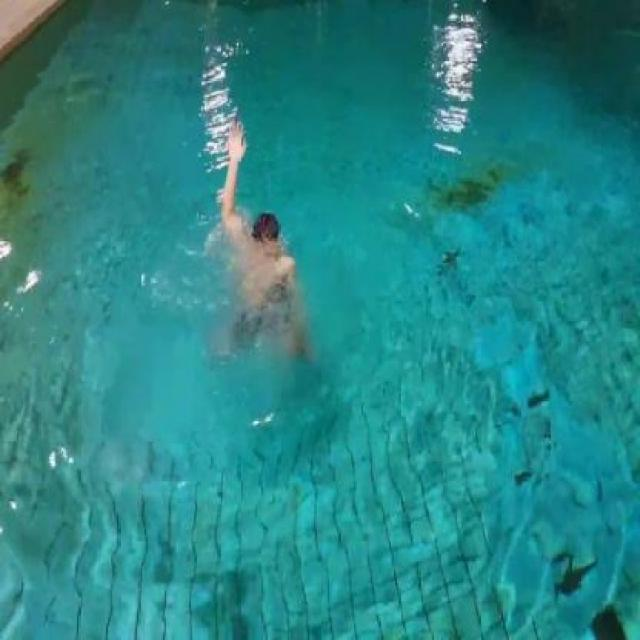Drowning: (219, 120, 307, 313)
